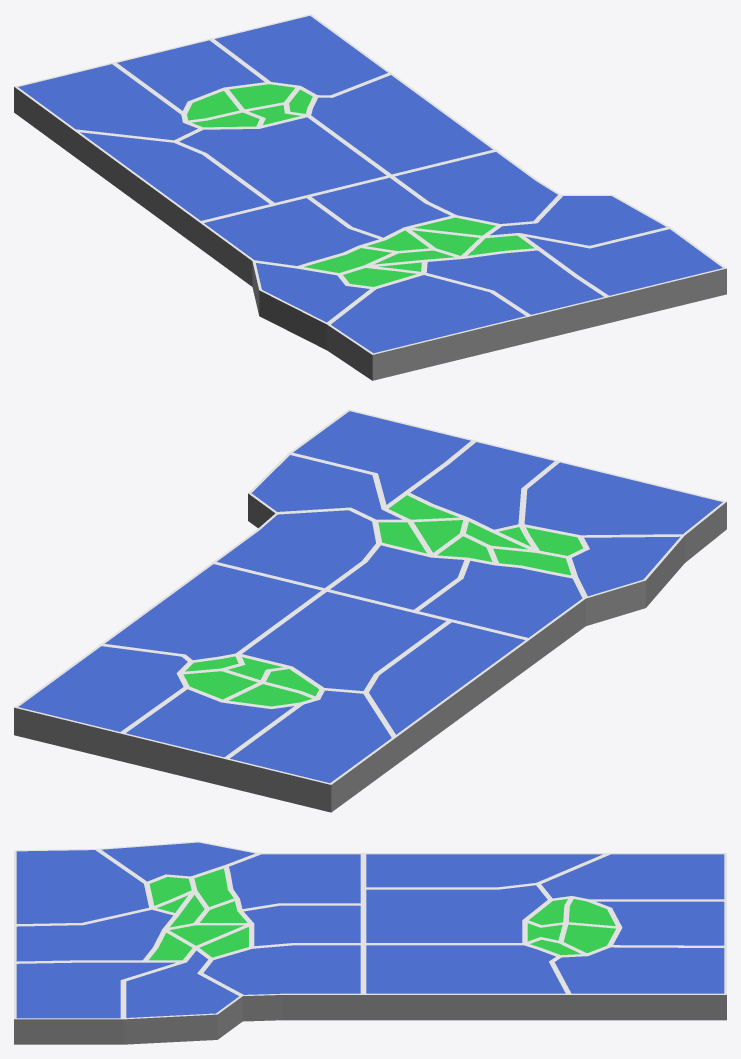
Rendered from map1.fbx.
3 views of the same model, one above another, from view 1: azimuth 30°, elevation 25°; view 2: azimuth 150°, elevation 25°; view 3: azimuth 270°, elevation 25° (orthographic). The views are drawn at different scales.
Visible parts, largest first — view 1: Plane.016, Plane.006, Plane.018, Plane.002, Plane.003, Plane.005, Plane.017, Plane.014, Plane.001, Plane.012, Plane.015, Plane.004 (+13 smaller); view 2: Plane.005, Plane.006, Plane.001, Plane.002, Plane.016, Plane.003, Plane.014, Plane.004, Plane.012, Plane.018, Plane.017, Plane.015 (+14 smaller); view 3: Plane.002, Plane.001, Plane.012, Plane.003, Plane.018, Plane.016, Plane.019, Plane.005, Plane.006, Plane.014, Plane.017, Plane.004 (+15 smaller).
Boxes of the visible parts, x1,y1,x2,y2 form: Plane.016: (327,273,529,380); Plane.006: (73,130,273,248); Plane.018: (519,227,726,323); Plane.002: (308,73,496,175); Plane.003: (175,115,389,204); Plane.005: (14,62,201,155); Plane.017: (424,249,608,342); Plane.014: (200,196,383,286); Plane.001: (211,14,391,96); Plane.012: (391,150,560,225); Plane.015: (252,261,373,350); Plane.004: (113,38,268,113); Plane.005: (225,689,394,812); Plane.006: (366,620,529,765); Plane.001: (14,644,190,761); Plane.002: (100,562,325,661); Plane.016: (521,460,726,562); Plane.003: (238,590,450,692); Plane.014: (415,559,585,666); Plane.004: (121,687,300,786); Plane.012: (213,509,379,589); Plane.018: (289,409,474,508); Plane.017: (407,440,558,531); Plane.015: (568,535,684,625); Plane.002: (363,944,569,1020); Plane.001: (552,946,726,1020); Plane.012: (200,944,363,1021); Plane.003: (363,884,550,944); Plane.018: (14,961,183,1044); Plane.016: (14,849,151,925); Plane.019: (123,948,242,1044); Plane.005: (538,853,726,900); Plane.006: (363,853,609,888); Plane.014: (226,853,363,910); Plane.017: (14,908,176,962); Plane.004: (588,900,726,946).
Bounding box in the file's own units: 15.07 × 25.5 × 1.
